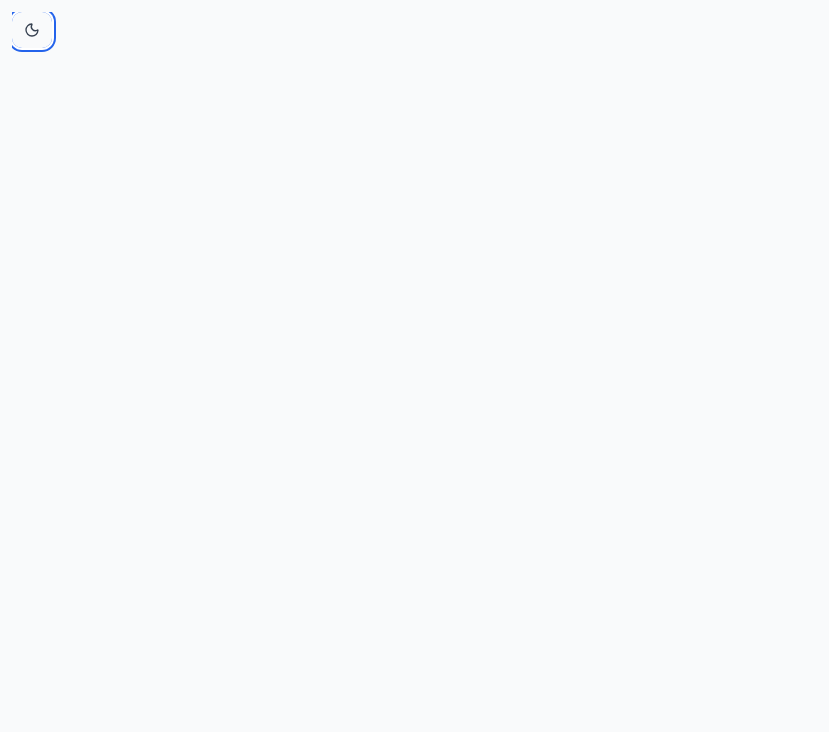
Test: ThemeSwitcher › maintains state across theme changes
This screenshot has width=829, height=732.
Earlier steps of the test are not shown.
Click the button: (32, 30) x1=12 y1=12 x2=52 y2=48
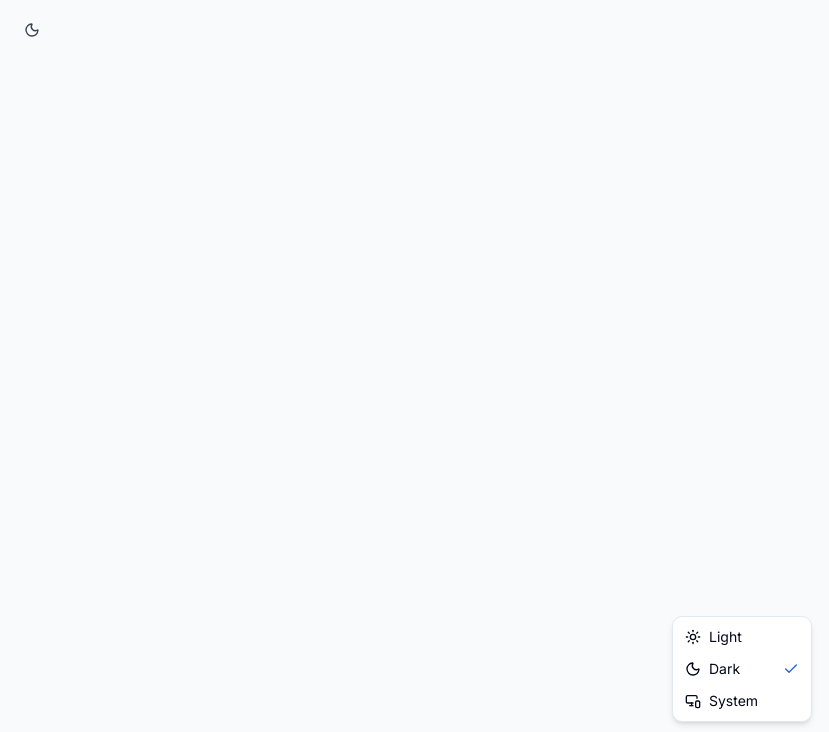
Now the 4th icon is shown, box x1=783 y1=661 x2=799 y2=677
